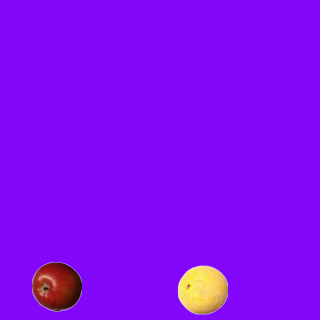Apple Braeburn: (31, 261, 81, 311)
Cantaloupe 1: (177, 264, 227, 314)
